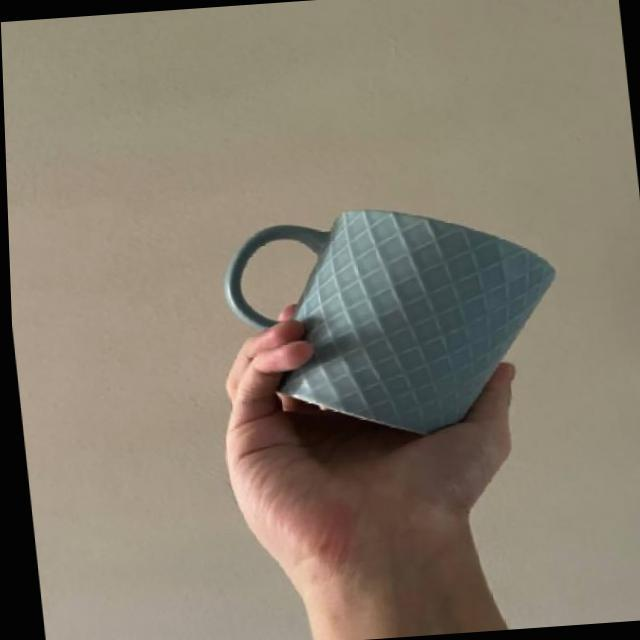cup: (313, 173, 561, 264)
